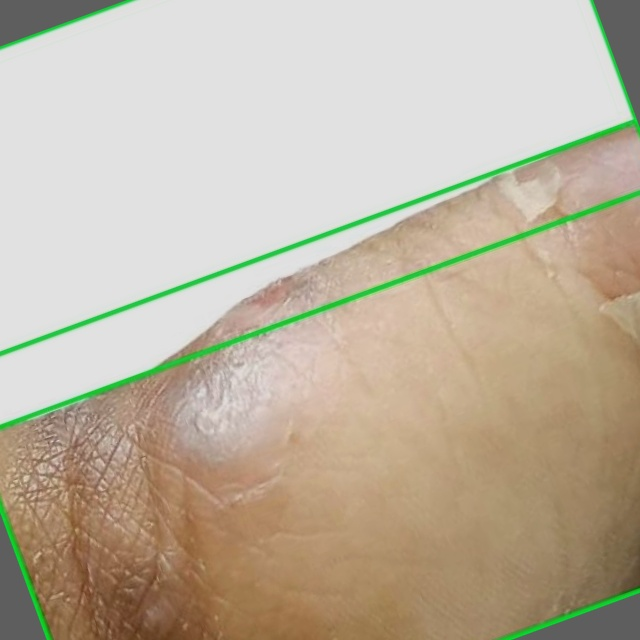Scabies: (0, 120, 639, 639), (0, 0, 639, 428)
